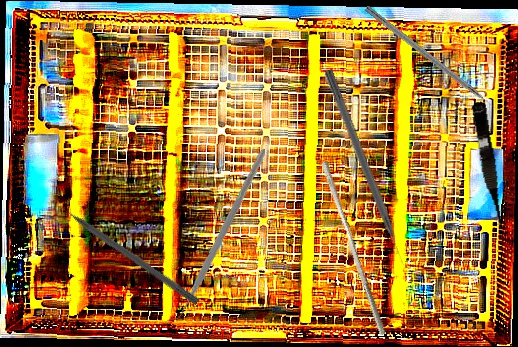Chopper: (150, 149, 279, 322)
Hook Surgical: (363, 5, 500, 115)
Micro Scissor: (468, 100, 509, 237)
Pusher: (321, 68, 408, 268), (50, 196, 201, 306), (314, 160, 394, 336)
